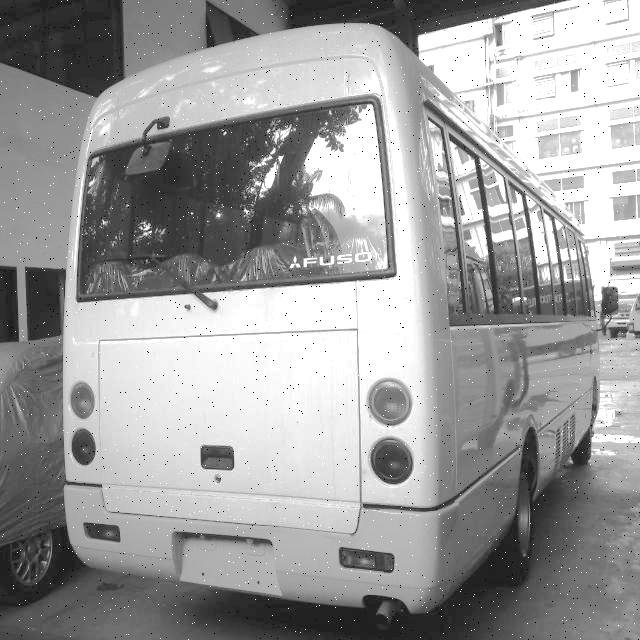Bus: (30, 13, 640, 639)
